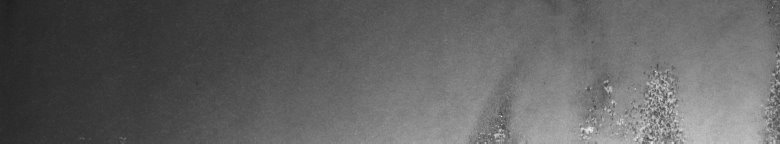hc: (579, 62, 684, 136)
